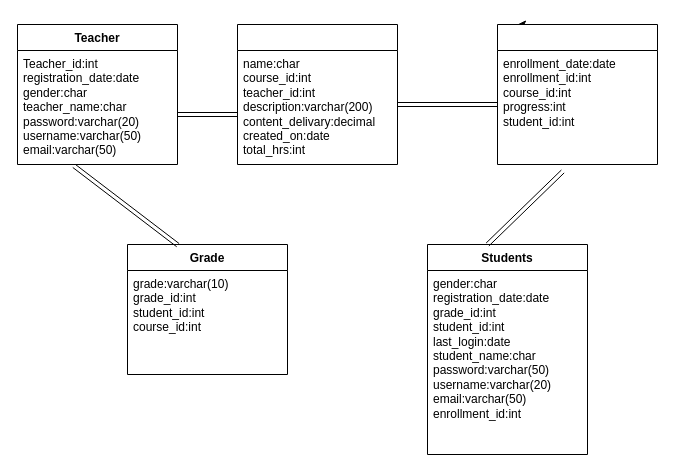
Image size: 675x475. Some labels were removed from this diagram. The box of each missing label's shape, as (x1, y1, x2, y2) in pixels:
Courses: (236, 24, 398, 164)
Enrollments: (496, 24, 658, 164)
